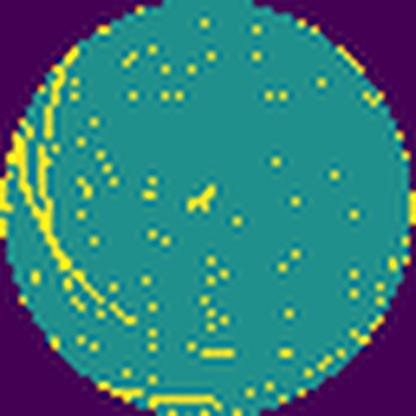Scratch: (3, 41, 141, 330)
